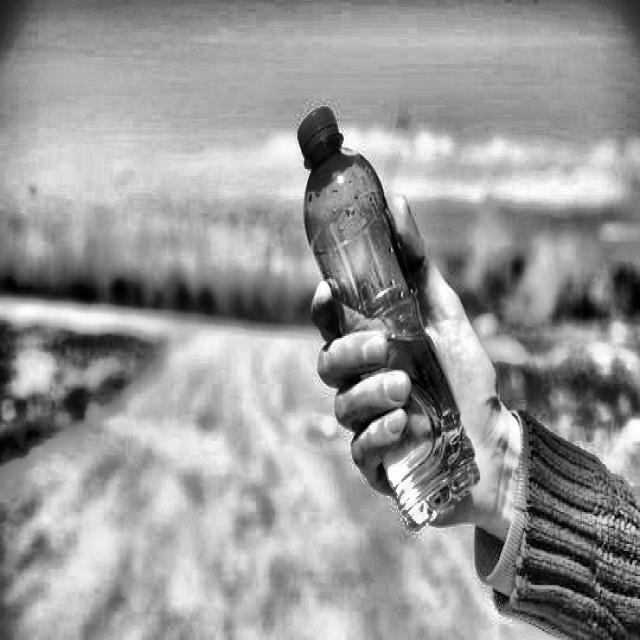waterbottle: (288, 101, 486, 544)
